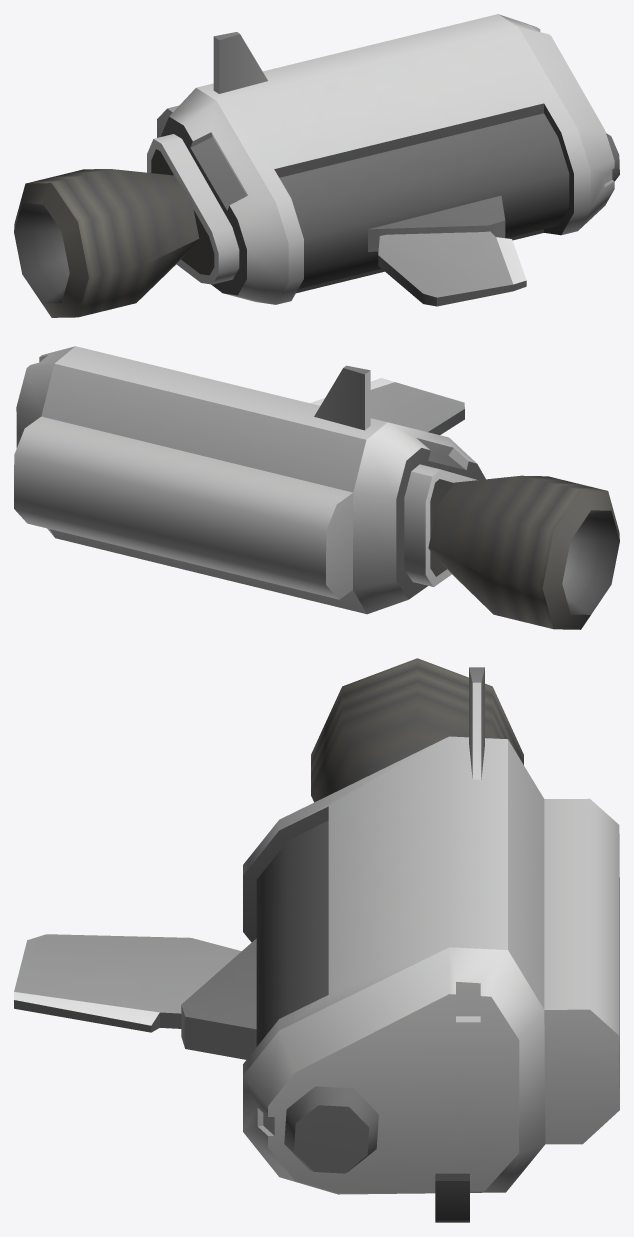
The model's file is Jet3R.fbx.
3 renders of one model, top to bottom at view 1: azimuth 30°, elevation 25°; view 2: azimuth 150°, elevation 25°; view 3: azimuth 270°, elevation 25°, orthographic. The views are drawn at different scales.
Parts seen in each view (by area): view 1: Jet3R.0, Jet3R.001, Jet3R.002, Jet3R.008, Jet3R.007, Jet3R.005, Jet3R.003; view 2: Jet3R.006, Jet3R.0, Jet3R.001, Jet3R.008, Jet3R.007, Jet3R.002, Jet3R.003, Jet3R.005; view 3: Jet3R.0, Jet3R.005, Jet3R.006, Jet3R.002, Jet3R.001, Jet3R.004, Jet3R.003.
Boxes of the visible parts, bbox=[...] form: Jet3R.0: bbox=[196, 14, 590, 304]; Jet3R.001: bbox=[14, 169, 199, 317]; Jet3R.002: bbox=[368, 195, 526, 306]; Jet3R.008: bbox=[160, 88, 288, 304]; Jet3R.007: bbox=[147, 134, 239, 284]; Jet3R.005: bbox=[498, 14, 614, 230]; Jet3R.003: bbox=[213, 32, 267, 93]; Jet3R.006: bbox=[14, 416, 353, 599]; Jet3R.0: bbox=[41, 346, 387, 614]; Jet3R.001: bbox=[428, 475, 619, 629]; Jet3R.008: bbox=[353, 422, 485, 614]; Jet3R.007: bbox=[404, 464, 477, 586]; Jet3R.002: bbox=[310, 378, 464, 434]; Jet3R.003: bbox=[314, 365, 370, 430]; Jet3R.005: bbox=[16, 346, 74, 536]; Jet3R.0: bbox=[243, 736, 544, 1126]; Jet3R.005: bbox=[243, 947, 545, 1194]; Jet3R.006: bbox=[544, 798, 619, 1144]; Jet3R.002: bbox=[14, 934, 256, 1059]; Jet3R.001: bbox=[311, 658, 523, 802]; Jet3R.004: bbox=[284, 1086, 469, 1222]; Jet3R.003: bbox=[469, 667, 484, 779].
Bounding box in the file's own units: 2.98 × 1.21 × 2.04.
